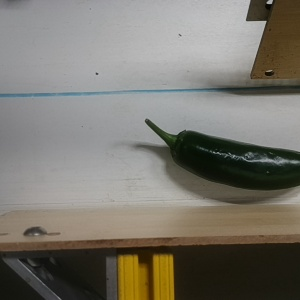Cut Point: (163, 126, 194, 165)
